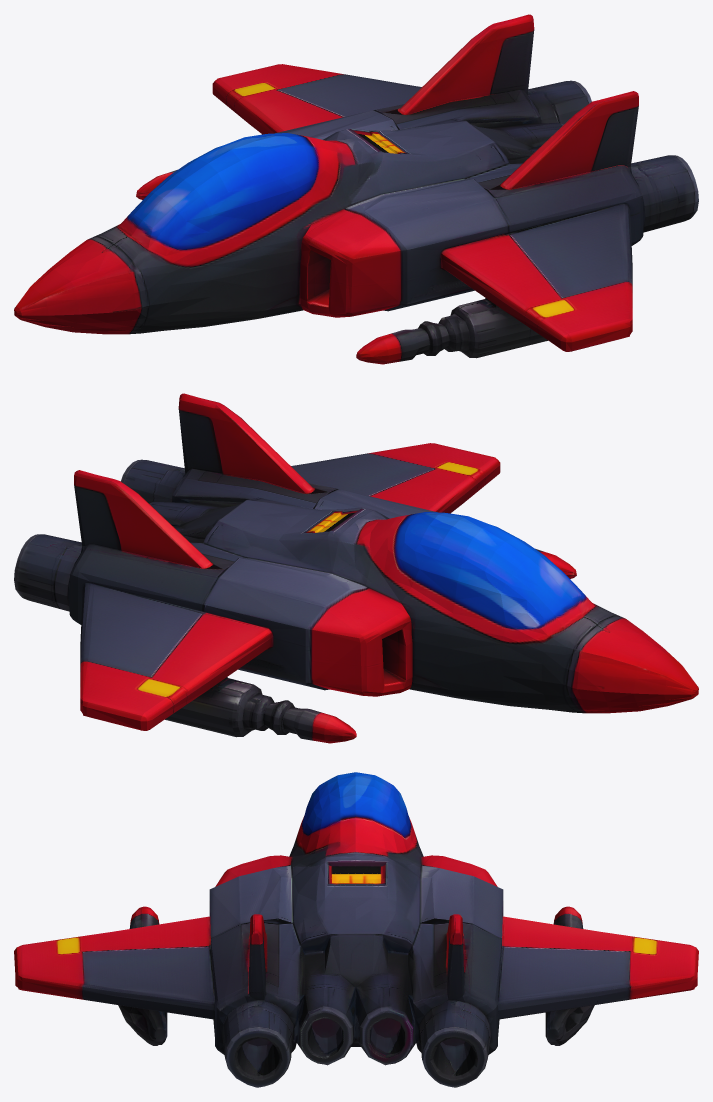
The model's file is Meshy_AI_Crimson_Zephyr_Jet_0703091558_texture.glb.
The picture shows the model from 3 angles, top to bottom: view 1: azimuth 30°, elevation 25°; view 2: azimuth 150°, elevation 25°; view 3: azimuth 270°, elevation 25°; orthographic projection. The views are drawn at different scales.
Bounding box in the file's own units: 1.9 × 0.4892 × 1.91.
Materials: 1 (1 with a texture image).
